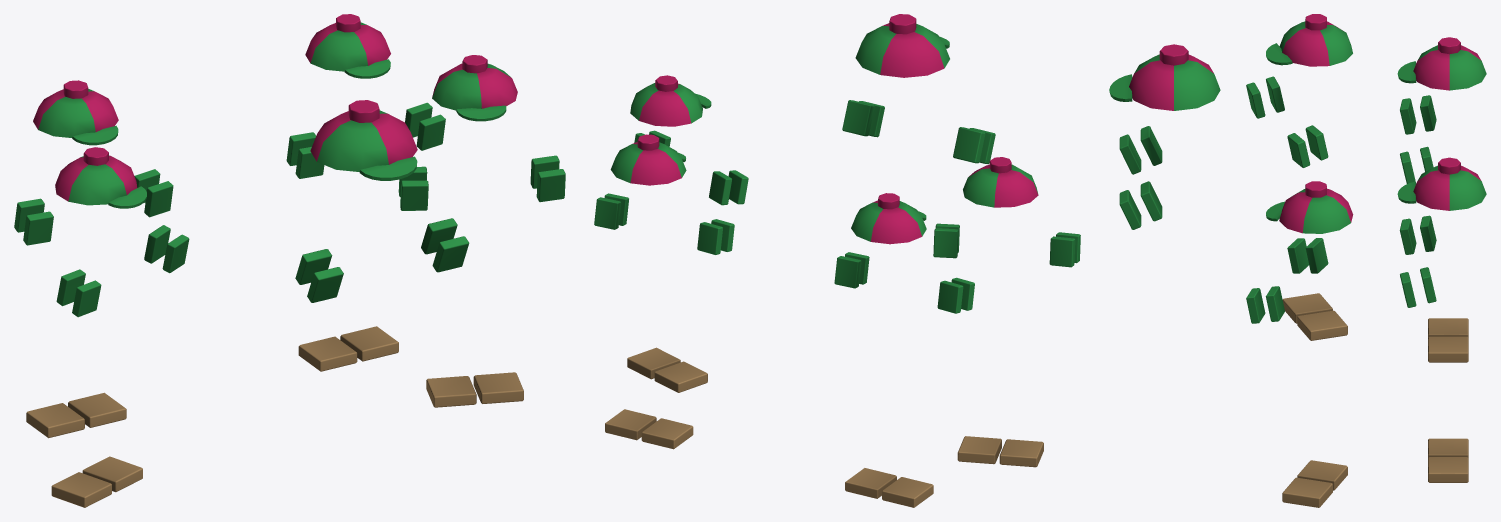
File: silks-stirrups-lod1.glb
3 renders of one model, left to right at view 1: azimuth 30°, elevation 25°; view 2: azimuth 150°, elevation 25°; view 3: azimuth 270°, elevation 25°, orthographic. The views are drawn at different scales.
Parts seen in each view (by area): view 1: cap_hat, att2_hat, att1_hat, att0_hat, att3_hat, cap_arm_l_trim, cap_arm_r_trim, att3_leg_r_trim, att0_leg_r_trim, att3_arm_r_trim, att1_arm_r_trim, att1_leg_r_trim (+11 smaller); view 2: cap_hat, att2_hat, att1_hat, att0_hat, att3_hat, cap_arm_l_trim, cap_arm_r_trim, att2_leg_r_trim, att2_arm_r_trim, att0_leg_r_trim, att1_leg_r_trim, att0_arm_r_trim (+10 smaller); view 3: cap_hat, att3_hat, att0_hat, att1_hat, att2_hat, att2_arm_r_trim, att2_leg_l_trim, att3_leg_l_trim, cap_arm_l_trim, cap_arm_r_trim, att1_leg_l_trim, att0_leg_l_trim (+11 smaller).
Boxes of the visible parts, box(x1,y1,x2,y2) form: cap_hat: box(310, 100, 417, 180); att2_hat: box(432, 55, 517, 121); att1_hat: box(33, 80, 118, 145); att0_hat: box(305, 14, 390, 78); att3_hat: box(55, 147, 146, 208); cap_arm_l_trim: box(421, 218, 469, 272); cap_arm_r_trim: box(295, 249, 343, 302); att3_leg_r_trim: box(51, 472, 111, 507); att0_leg_r_trim: box(298, 336, 357, 371); att3_arm_r_trim: box(56, 269, 101, 317); att1_arm_r_trim: box(14, 198, 53, 245); att1_leg_r_trim: box(26, 403, 84, 438); cap_hat: box(855, 14, 949, 77); att2_hat: box(630, 75, 711, 126); att1_hat: box(851, 193, 926, 244); att0_hat: box(610, 134, 686, 185); att3_hat: box(963, 157, 1038, 207); cap_arm_l_trim: box(842, 100, 884, 137); cap_arm_r_trim: box(953, 127, 995, 164); att2_leg_r_trim: box(654, 361, 707, 392); att2_arm_r_trim: box(709, 170, 748, 205); att0_leg_r_trim: box(641, 418, 693, 449); att1_leg_r_trim: box(882, 477, 933, 507); att0_arm_r_trim: box(697, 219, 734, 254); cap_hat: box(1109, 44, 1220, 110); att3_hat: box(1266, 14, 1352, 66); att0_hat: box(1397, 157, 1486, 210); att1_hat: box(1397, 37, 1486, 90); att2_hat: box(1266, 181, 1353, 233); att2_arm_r_trim: box(1287, 238, 1328, 273); att2_leg_l_trim: box(1282, 477, 1332, 507); att3_leg_l_trim: box(1297, 310, 1347, 340); cap_arm_l_trim: box(1119, 181, 1162, 229); cap_arm_r_trim: box(1119, 126, 1162, 174); att1_leg_l_trim: box(1428, 336, 1468, 362); att0_leg_l_trim: box(1428, 457, 1468, 482).
Bounding box in the file's own units: 2.28 × 1.71 × 1.64.
